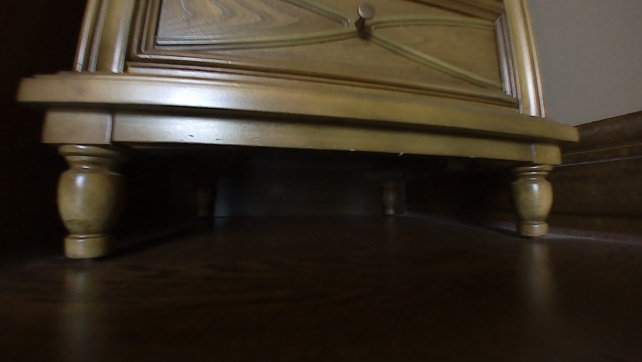cabinet: (14, 0, 580, 265)
